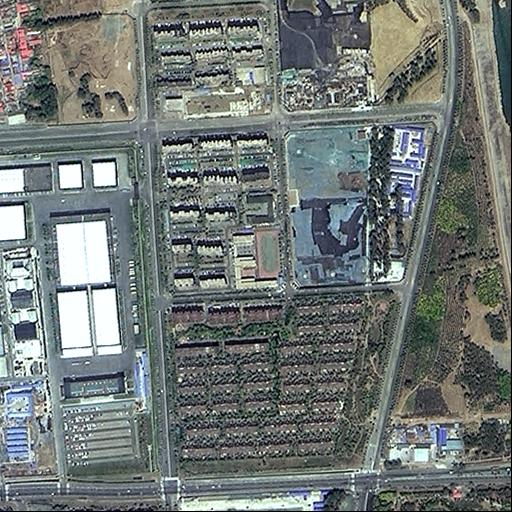school: (228, 227, 285, 288)
